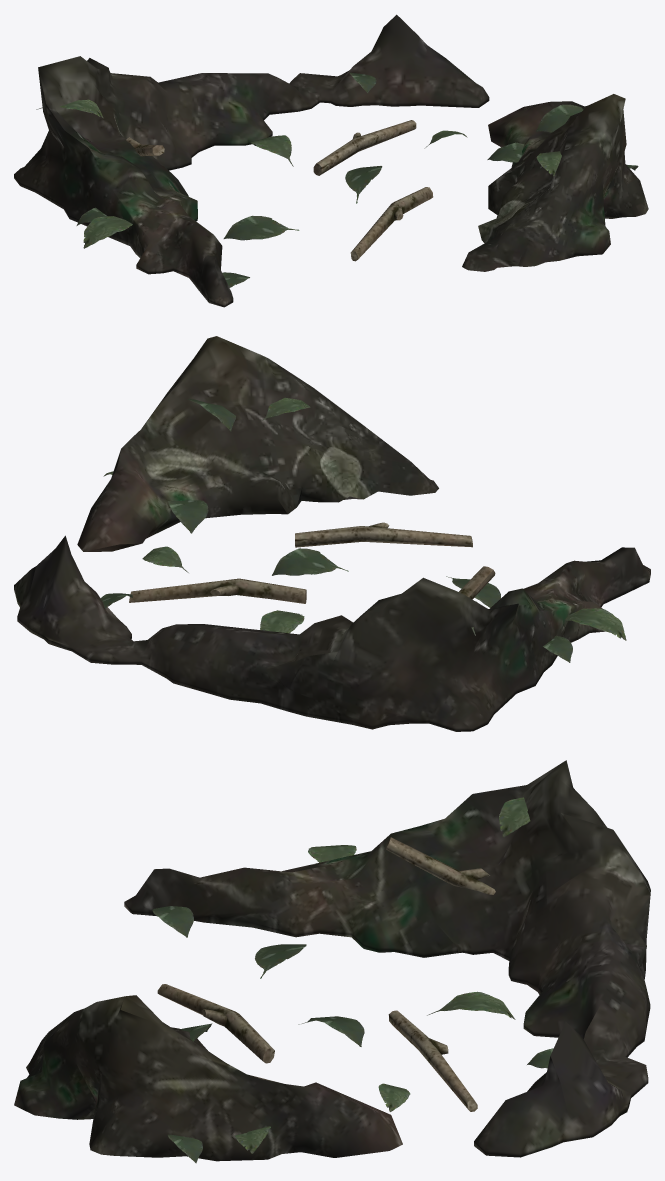
3 views of the same model, one above another, from view 1: azimuth 30°, elevation 25°; view 2: azimuth 150°, elevation 25°; view 3: azimuth 270°, elevation 25° (orthographic). The views are drawn at different scales.
Parts seen in each view (by area): view 1: SM_Compost_Super_01v1_LOD0; view 2: SM_Compost_Super_01v1_LOD0; view 3: SM_Compost_Super_01v1_LOD0.
Boxes of the visible parts, x1=… form: SM_Compost_Super_01v1_LOD0: x1=14, y1=14, x2=648, y2=307; SM_Compost_Super_01v1_LOD0: x1=14, y1=336, x2=650, y2=731; SM_Compost_Super_01v1_LOD0: x1=14, y1=760, x2=650, y2=1163.
Bounding box in the file's own units: 1.09 × 0.2525 × 0.9444.
Materials: 1 (1 with a texture image).
